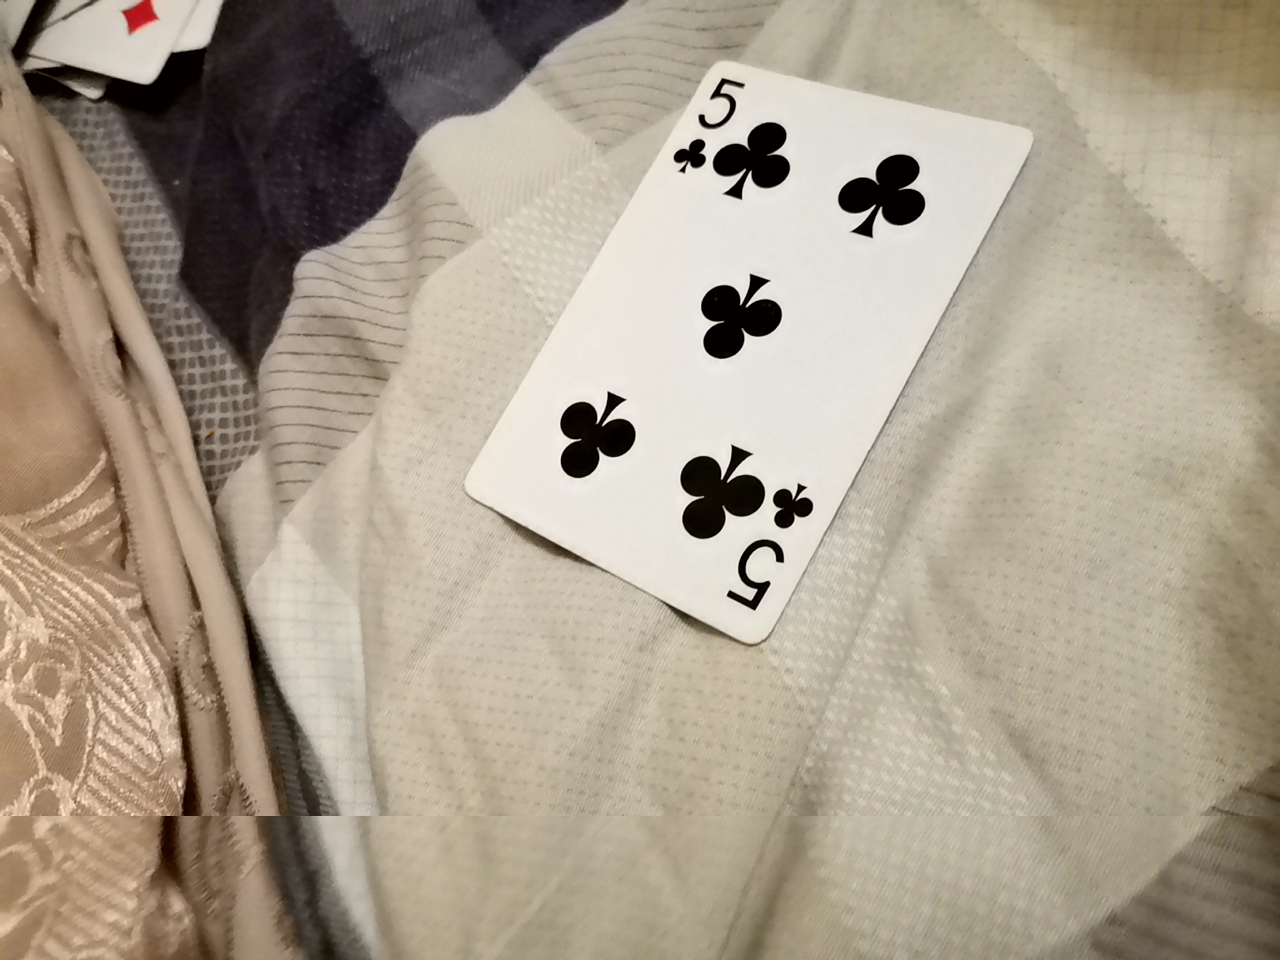mh 5: (454, 72, 1053, 637)
